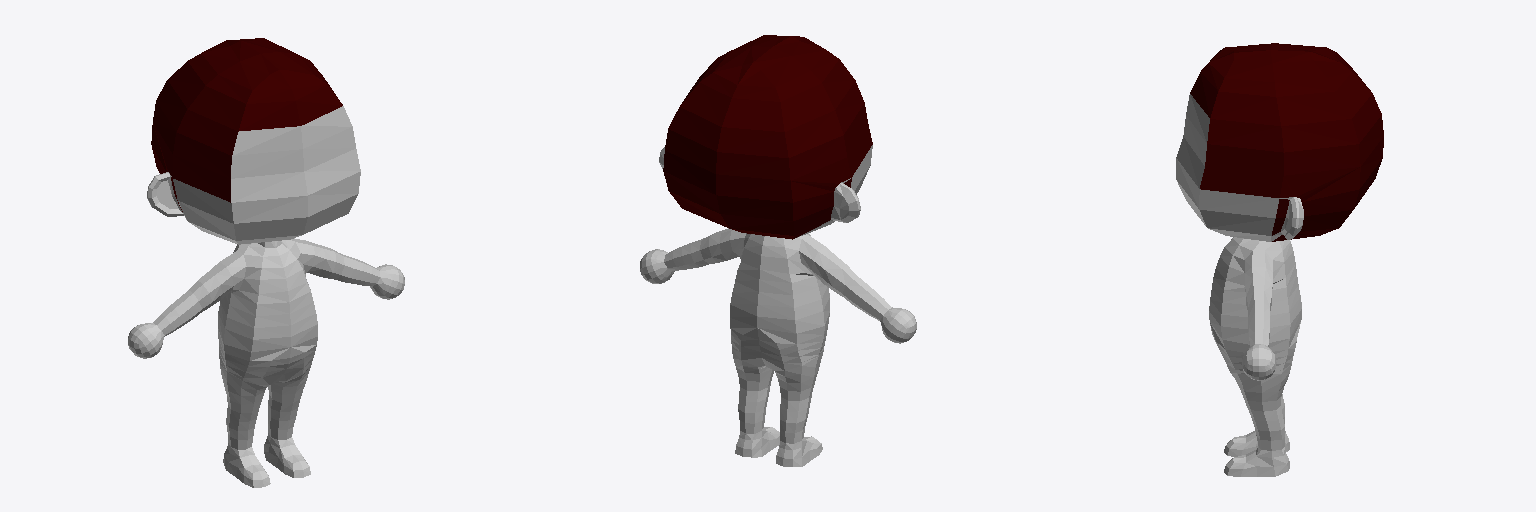
Rendered from personaje1.obj.
3 views of the same model, side by side, from view 1: azimuth 30°, elevation 25°; view 2: azimuth 150°, elevation 25°; view 3: azimuth 270°, elevation 25° (orthographic).
Visible parts, largest first — view 1: AC_Player_Base; view 2: AC_Player_Base; view 3: AC_Player_Base.
Part boxes in pixels (bbox=[...]): AC_Player_Base: bbox=[128, 38, 404, 487]; AC_Player_Base: bbox=[640, 35, 916, 466]; AC_Player_Base: bbox=[1176, 43, 1383, 476].
Size of the model in its own units: 8.28 by 11.95 by 5.47.